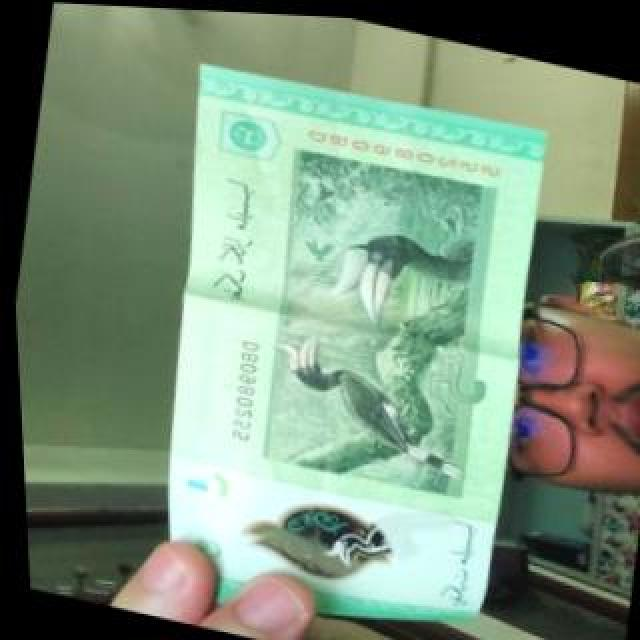5 Ringgit: (116, 50, 570, 639)
